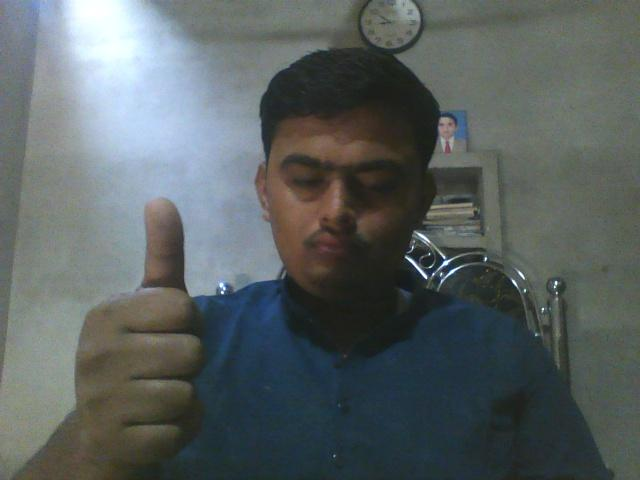Yes: (62, 169, 214, 467)
